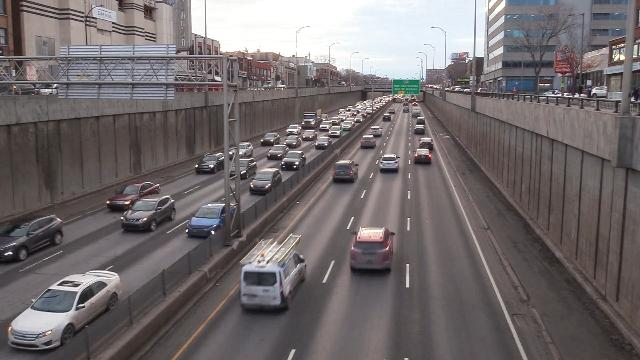car: (8, 266, 122, 351), (0, 205, 64, 266), (120, 194, 181, 235), (346, 226, 396, 275), (186, 202, 239, 240), (106, 180, 160, 210), (247, 169, 285, 196), (331, 158, 361, 184), (195, 152, 227, 175), (229, 157, 256, 180), (377, 152, 403, 174), (282, 150, 307, 170), (412, 150, 433, 167), (267, 144, 290, 159), (260, 132, 281, 146), (236, 142, 254, 158), (314, 136, 332, 150), (284, 135, 302, 149), (360, 136, 377, 149), (301, 129, 318, 142), (418, 137, 434, 150), (286, 124, 302, 136), (369, 126, 383, 137), (328, 126, 342, 137), (319, 121, 333, 131), (413, 124, 425, 135), (341, 121, 354, 131), (412, 107, 422, 118), (330, 116, 340, 125), (416, 116, 426, 125), (337, 113, 348, 121), (345, 110, 356, 118), (355, 103, 366, 111), (382, 113, 392, 121), (354, 115, 363, 123), (364, 100, 374, 107), (365, 107, 373, 115), (320, 114, 329, 121), (371, 104, 379, 111), (345, 106, 354, 112), (388, 107, 395, 114), (359, 111, 367, 117), (339, 108, 346, 114), (403, 106, 410, 112), (403, 99, 409, 105), (410, 95, 416, 100), (412, 101, 418, 106)
truck: (301, 108, 323, 129)
van: (239, 228, 304, 315)
